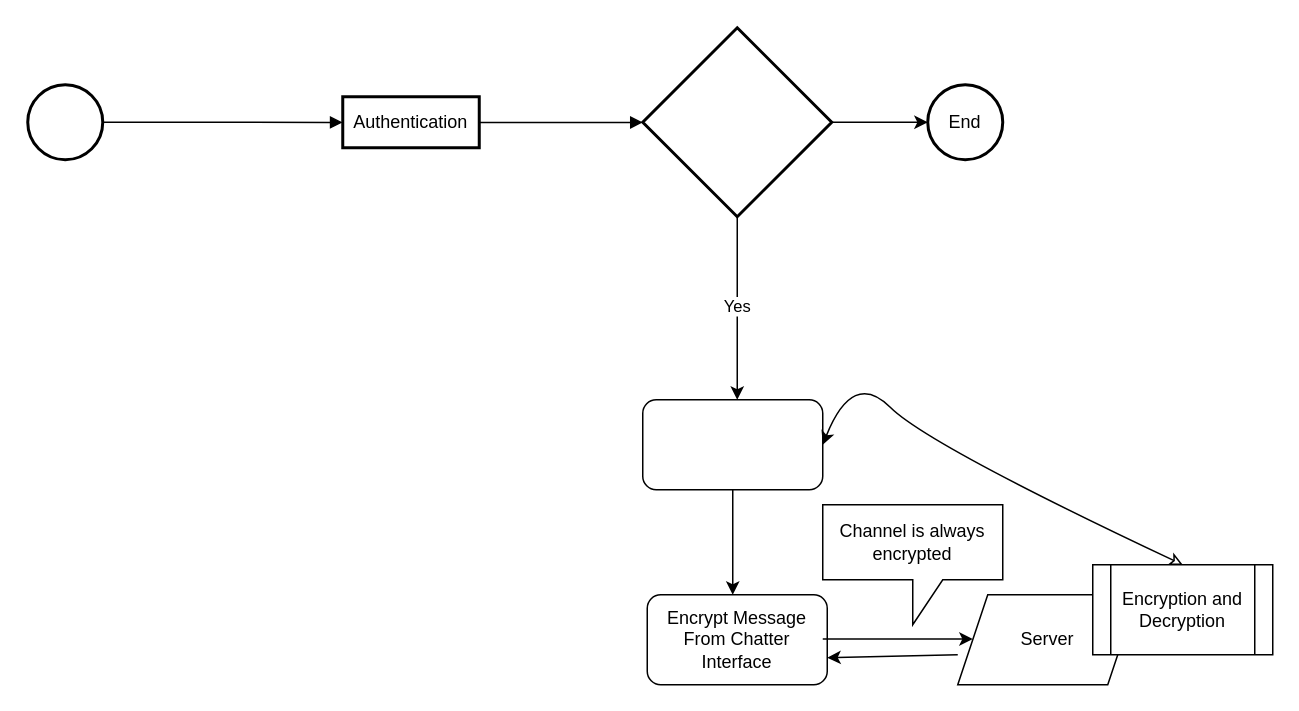
Some shapes in this 1299 by 711 pixel diagram are drawn without their labels. The box of each missing label's shape, as (x1, y1, x2, y2) in pixels:
Is valid user: (640, 26, 832, 218)
Key: (641, 398, 823, 490)
Start: (26, 82, 104, 160)
